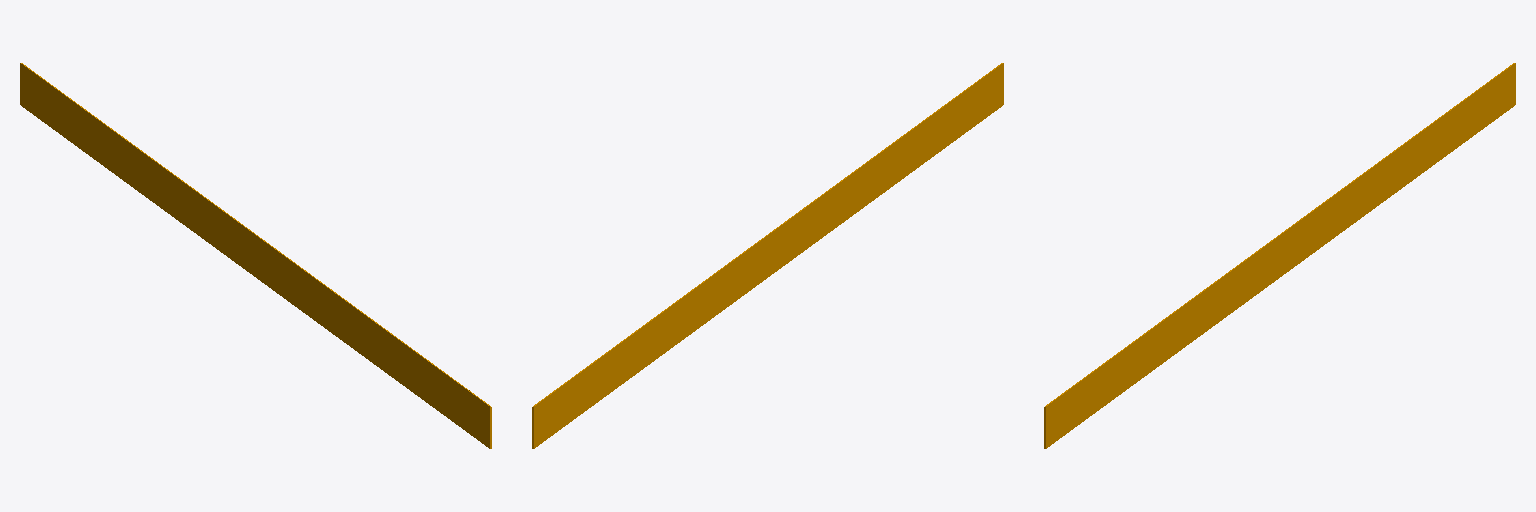
URDF robot description (wall):
<?xml version="1.0"?>
<robot name="wall">
<link name="wall">
    <visual>
        <origin rpy="-1.57079632675 0 0" xyz="0 0 0"/>
        <geometry>
            <mesh filename="border/cuboid_rep1d.obj" scale="0.025 0.9 18.05"/>
        </geometry>
    </visual>
    <collision>
      <origin xyz="0 0 0"/>
      <geometry>
            <box size="0.05 36.1 1.8"/>
        </geometry>
    </collision>
    <inertial>
        <density value="1000.0"/>
    </inertial>
</link>
</robot>

--- Facts derived from the render (not from the file) ---
3 views of the same robot in one strip: view 1: azimuth 30°, elevation 25°; view 2: azimuth 150°, elevation 25°; view 3: azimuth 330°, elevation 25° (orthographic).
Model wall with 1 links and 0 joints (none), rooted at wall, posed all joints at 0.
Links seen in each view (by area): view 1: wall; view 2: wall; view 3: wall.
Link boxes in pixels (x1=…): wall: x1=20, y1=63, x2=491, y2=448; wall: x1=532, y1=63, x2=1003, y2=448; wall: x1=1044, y1=63, x2=1515, y2=448.
Size in the robot's own frame: 0.05 by 36.1 by 1.8 metres.
1 mesh visuals loaded from 1 distinct referenced files (1 OBJ).
